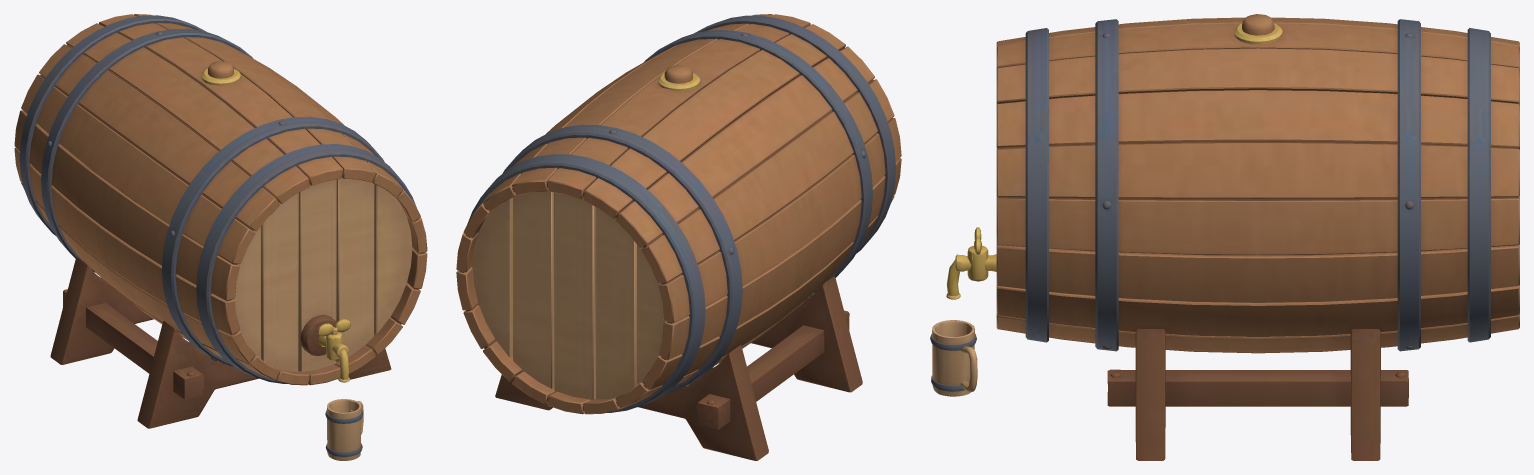
The model's file is barril_ron.glb.
The picture shows the model from 3 angles, left to right: view 1: azimuth 30°, elevation 25°; view 2: azimuth 150°, elevation 25°; view 3: azimuth 270°, elevation 25°; orthographic projection. The views are drawn at different scales.
Visible parts, largest first — view 1: rum-barrel_body; view 2: rum-barrel_body; view 3: rum-barrel_body.
Boxes of the visible parts, x1,y1,x2,y2 form: rum-barrel_body: (14,14,427,460); rum-barrel_body: (456,14,901,460); rum-barrel_body: (930,14,1519,460).
Bounding box in the file's own units: 0.5974 × 0.7022 × 1.01.
1 material, 1 textured.
